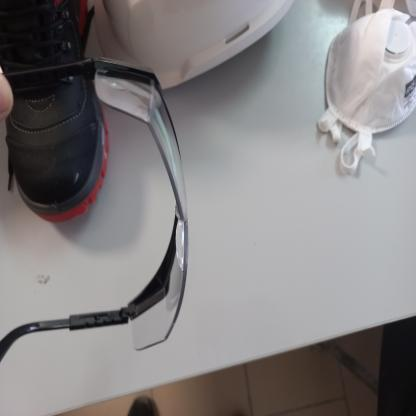boots: (3, 12, 109, 206)
goggles: (82, 48, 201, 350)
mask: (318, 5, 416, 143)
